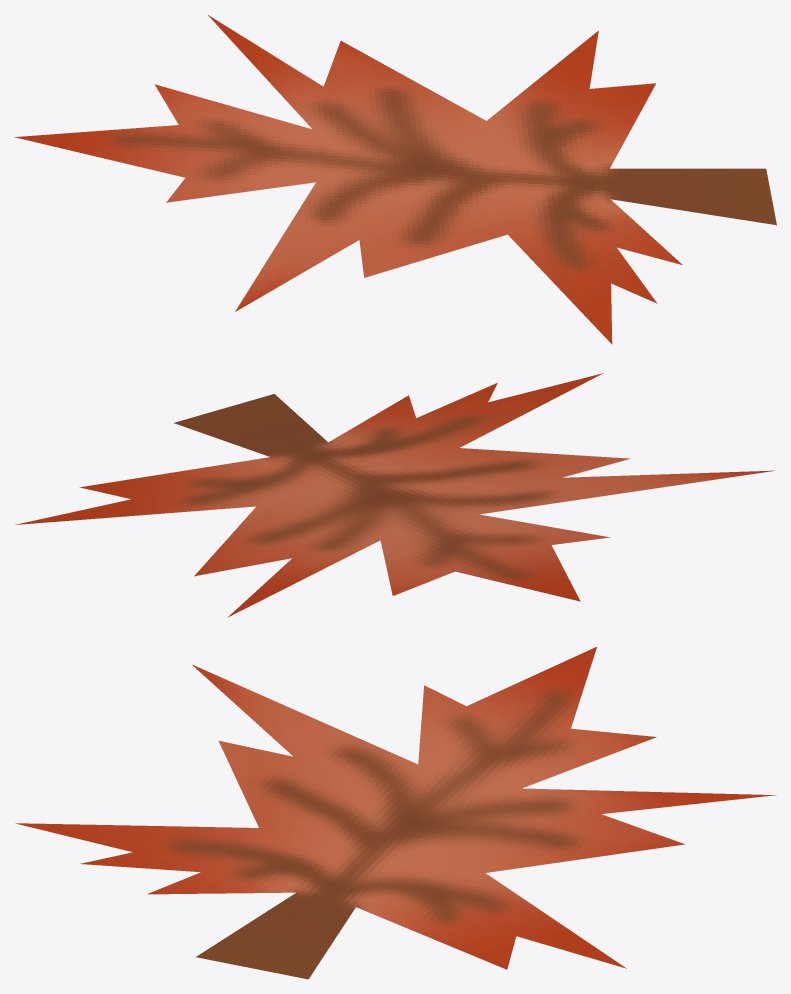
File: altLeaf.glb
The picture shows the model from 3 angles, top to bottom: view 1: azimuth 30°, elevation 25°; view 2: azimuth 150°, elevation 25°; view 3: azimuth 270°, elevation 25°; orthographic projection. The views are drawn at different scales.
Visible parts, largest first — view 1: leaf_3; view 2: leaf_3; view 3: leaf_3.
Boxes of the visible parts, bbox=[...] form: leaf_3: bbox=[14, 15, 776, 344]; leaf_3: bbox=[15, 373, 774, 617]; leaf_3: bbox=[15, 647, 776, 979].
Size of the model in its own units: 0.6016 by 0.0619 by 0.7074.
1 material, 1 textured.
